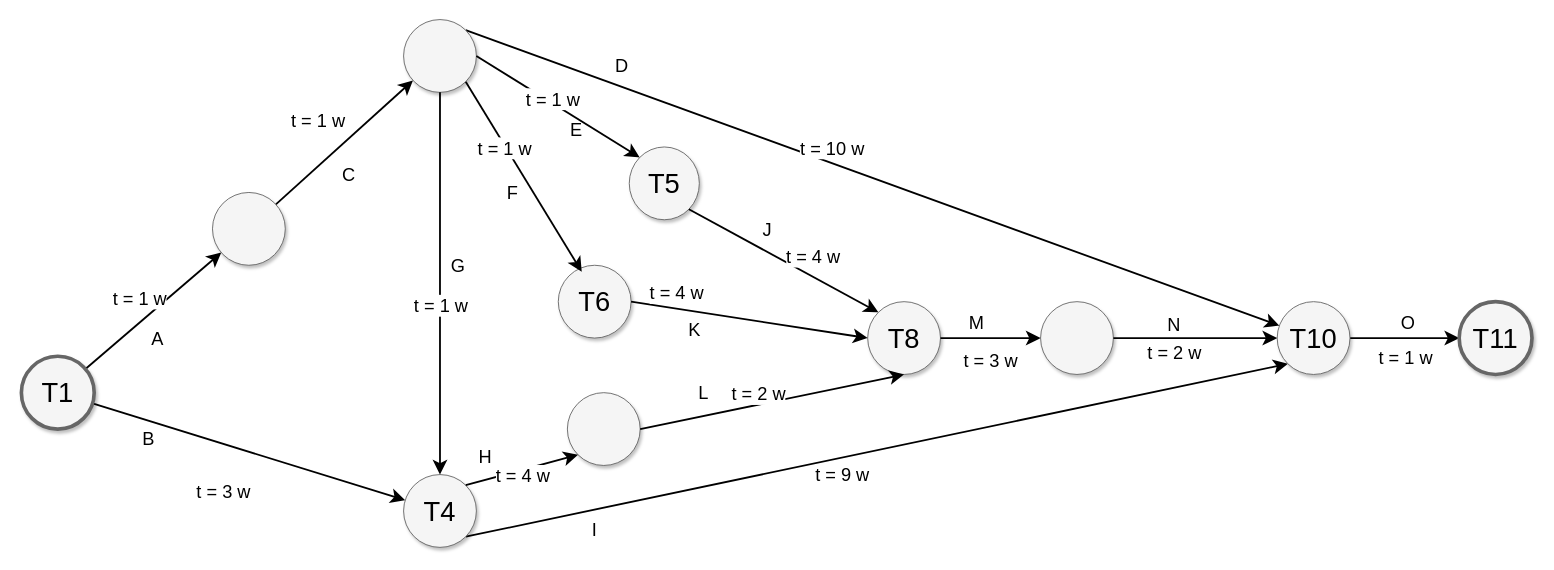
The diagram is 1554 pixels wide and 570 high, and some of its shapes have lost their labels. Here are the shapes that lost their labels. From the top down, the centre of each, then its label:
At point (440, 57): "T3".
At point (249, 230): "T2".
At point (1077, 339): "T9".
At point (604, 430): "T7".
